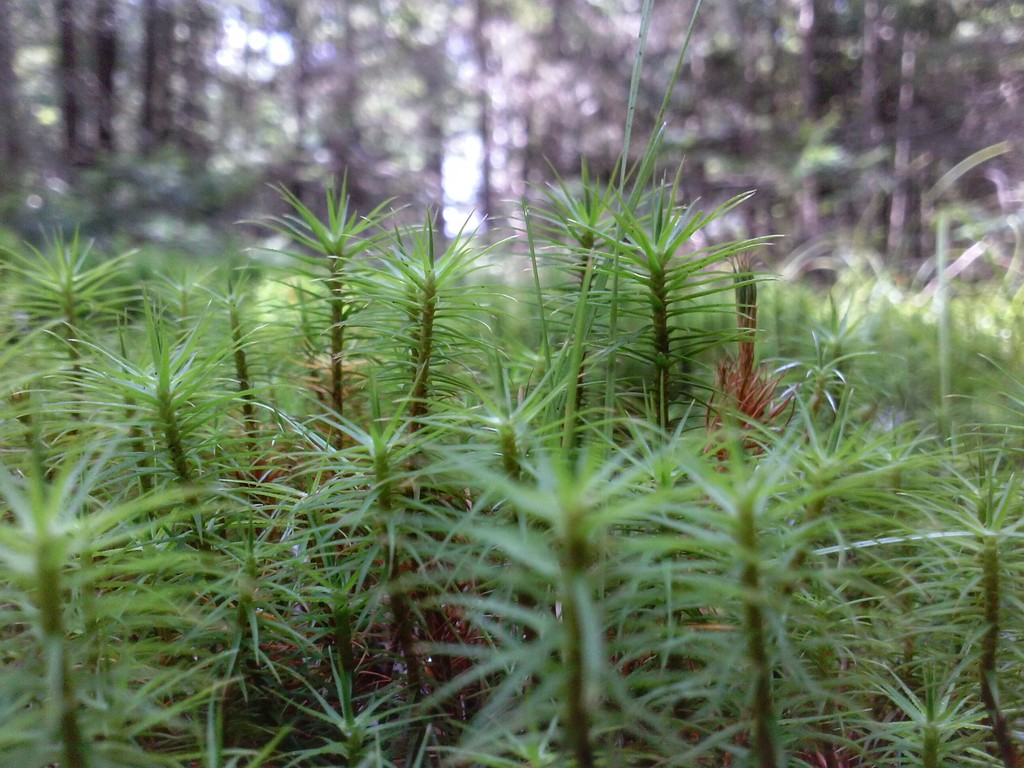Tree: (0, 0, 1024, 291)
